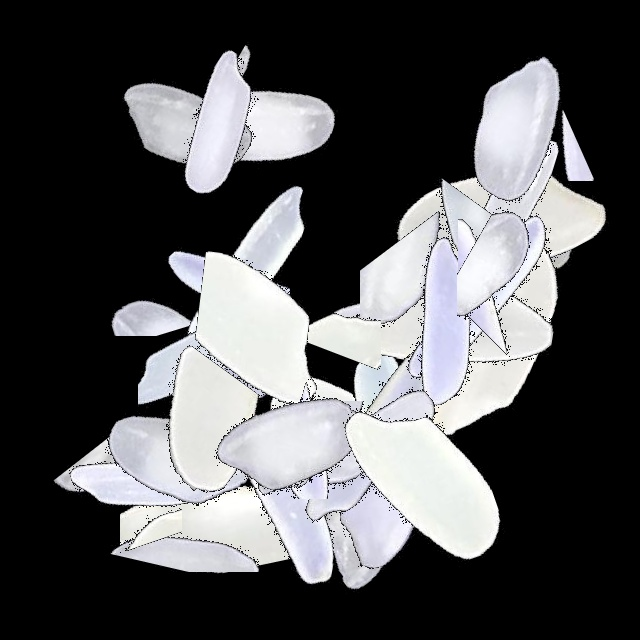Broken: (138, 264, 310, 514), (120, 365, 290, 615), (157, 245, 407, 415), (436, 121, 596, 371), (134, 192, 290, 442), (216, 401, 466, 554), (112, 313, 264, 563), (360, 178, 496, 428), (71, 437, 321, 572), (378, 135, 509, 385), (458, 153, 589, 403), (457, 167, 586, 417), (233, 371, 483, 499), (194, 484, 444, 611), (18, 426, 268, 543), (19, 224, 269, 336), (390, 78, 640, 181), (235, 492, 485, 590), (89, 373, 182, 623), (206, 0, 297, 250), (290, 179, 381, 429), (319, 344, 409, 594), (311, 345, 397, 595), (204, 378, 454, 460), (164, 100, 414, 176)
Full: (136, 0, 386, 250), (232, 316, 482, 566), (390, 118, 640, 368), (58, 353, 308, 603), (374, 97, 624, 347), (279, 317, 529, 567), (371, 216, 621, 466), (18, 358, 268, 608), (121, 229, 371, 479), (259, 386, 509, 636), (295, 178, 545, 428), (329, 195, 579, 445), (54, 332, 304, 582), (57, 0, 307, 250), (390, 76, 640, 326), (126, 141, 376, 391), (92, 0, 342, 250), (158, 373, 408, 623), (247, 312, 497, 562), (352, 176, 602, 426), (390, 0, 640, 250), (314, 198, 564, 448), (248, 318, 498, 568), (162, 314, 412, 564), (299, 358, 549, 608)
